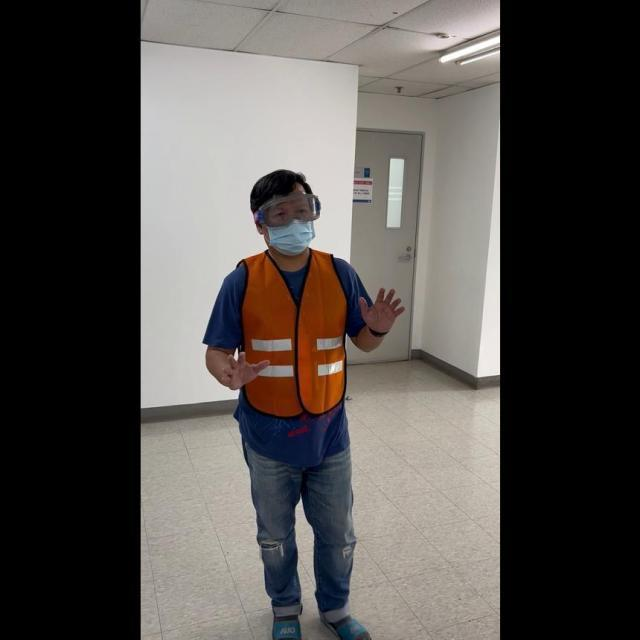bare_hand: (220, 342, 270, 391), (358, 281, 403, 333)
